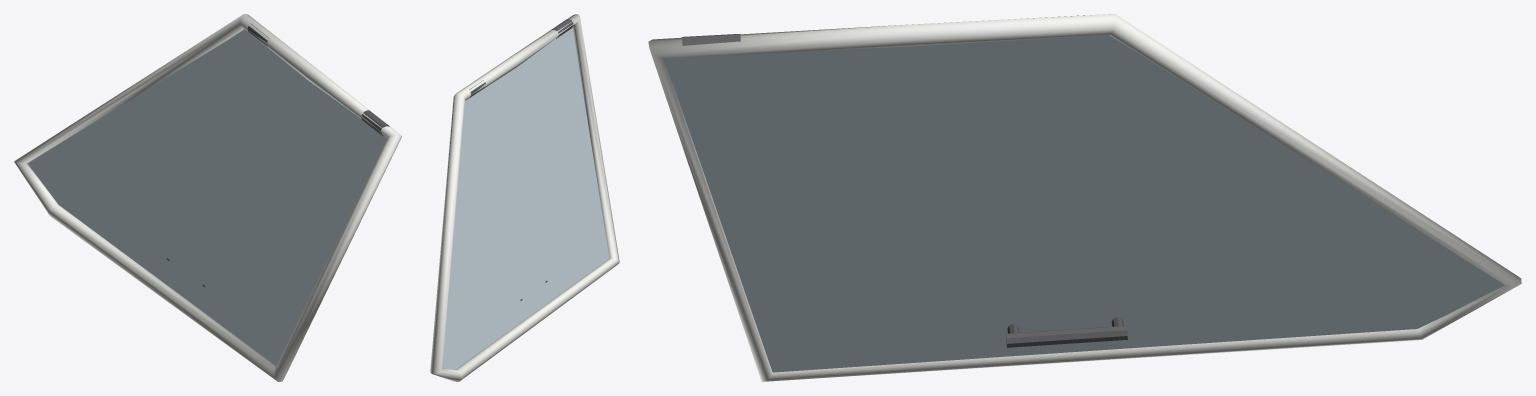
File: puerta.glb
3 renders of one model, left to right at view 1: azimuth 30°, elevation 25°; view 2: azimuth 150°, elevation 25°; view 3: azimuth 270°, elevation 25°, orthographic. The views are drawn at different scales.
Parts seen in each view (by area): view 1: puerta_vidrio, puerta_marco; view 2: puerta_vidrio, puerta_marco, puerta_bisagra_b; view 3: puerta_vidrio, puerta_marco, puerta_manija.
Boxes of the visible parts, box(x1,y1,x2,y2) form: puerta_vidrio: box(27, 29, 387, 365); puerta_marco: box(14, 14, 401, 381); puerta_vidrio: box(442, 27, 609, 369); puerta_marco: box(430, 14, 619, 381); puerta_bisagra_b: box(551, 19, 573, 38); puerta_vidrio: box(664, 35, 1504, 372); puerta_marco: box(648, 14, 1521, 381); puerta_manija: box(1006, 325, 1127, 347).
Size of the model in its own units: 0.2546 by 0.5608 by 1.05.
